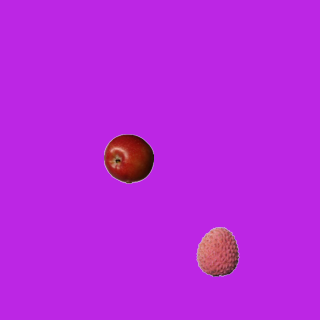Apple Braeburn: (103, 133, 153, 183)
Lychee: (192, 226, 242, 276)
